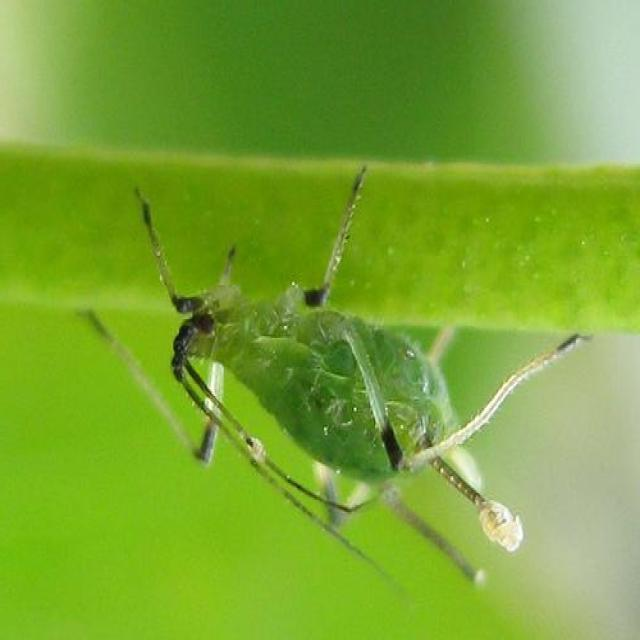aphid: (123, 193, 529, 558)
